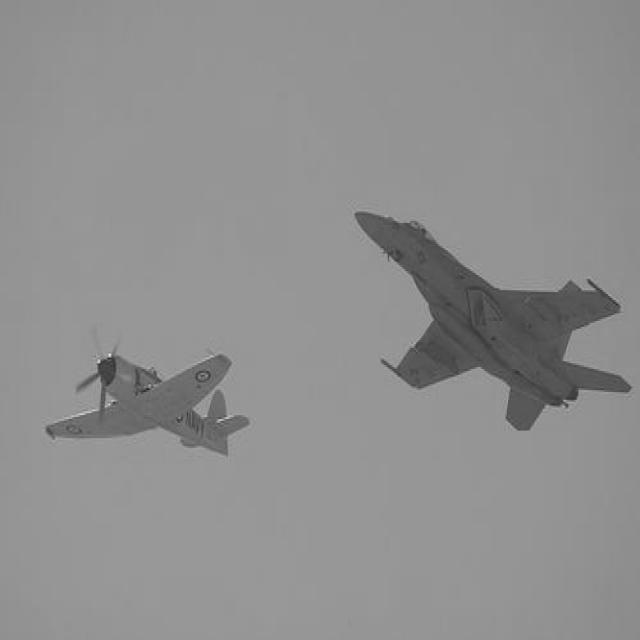aeroplane: (350, 206, 634, 434), (46, 344, 254, 456)
